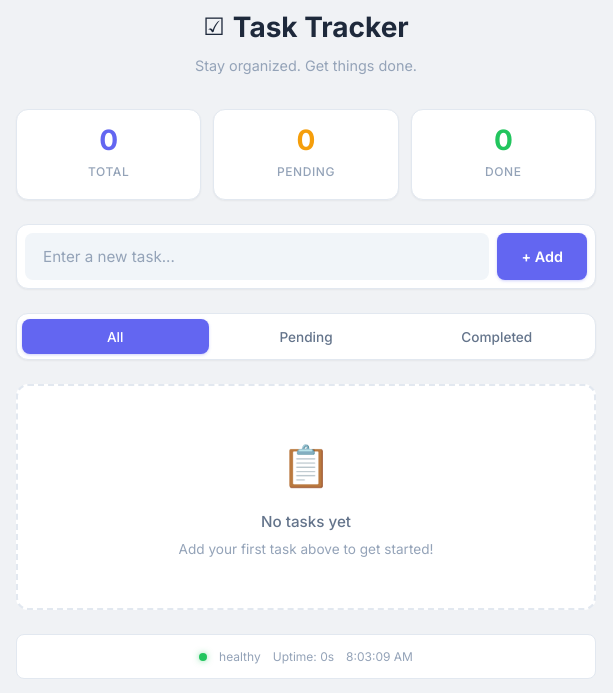
Test case: App – Integration › displays task summary counts
This screenshot has width=613, height=693.
Check: the 1st text with class "count" reads "0", box [99,123,118,157]
Check: the 2nd text with class "count" reads "0", box [296,123,315,157]
Type "Count task" into the field with placeholder "Enter a new task..." at [257, 257], box [25,233,490,280]
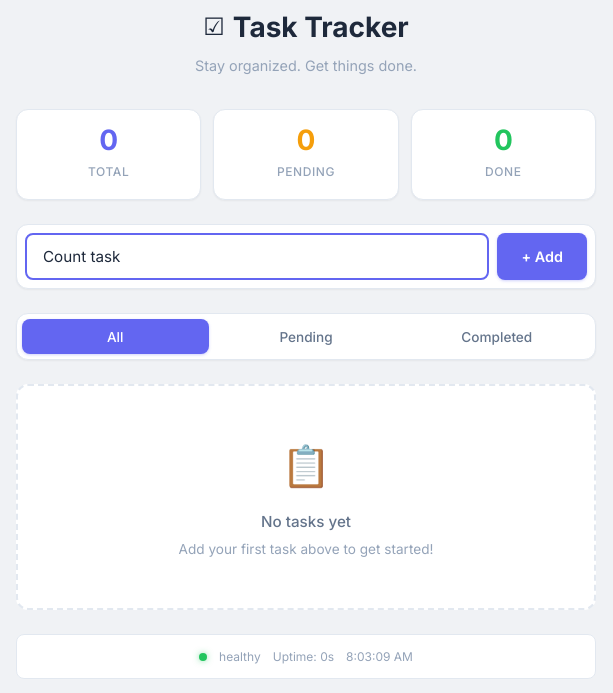
Click the button "+ Add" at [542, 257], box [498,233,587,280]
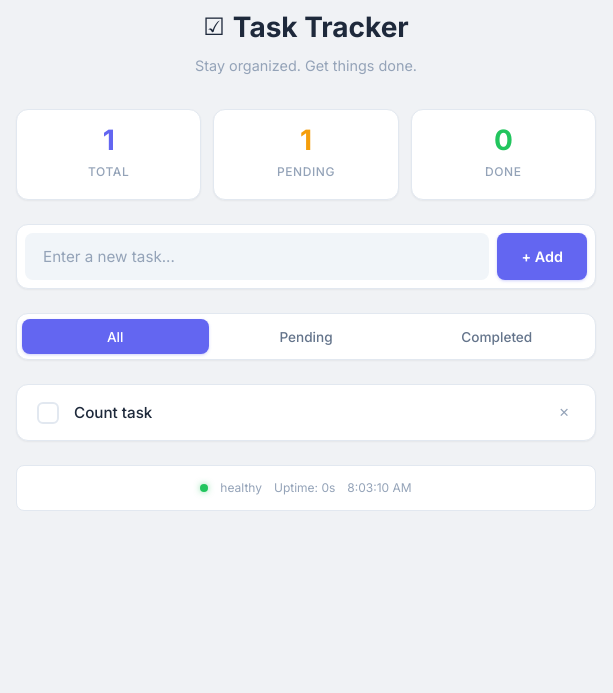
Check: the 1st text with class "count" reads "1", box [103,123,115,157]
